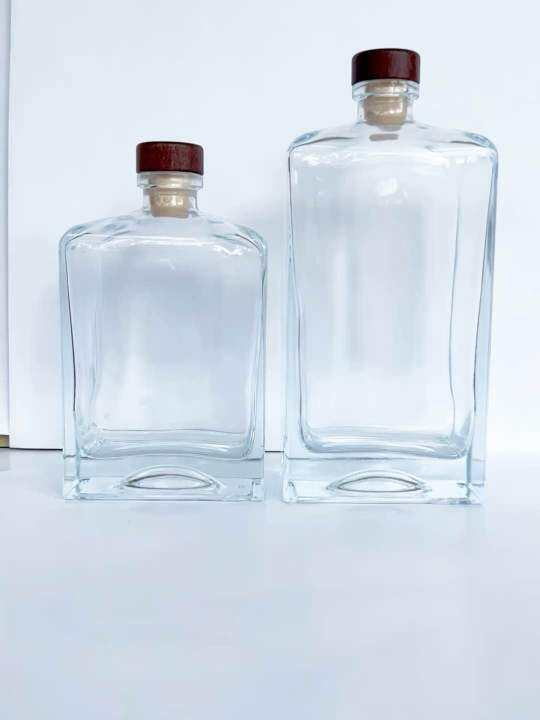glass_bottle: (280, 43, 501, 515), (51, 133, 274, 508)
